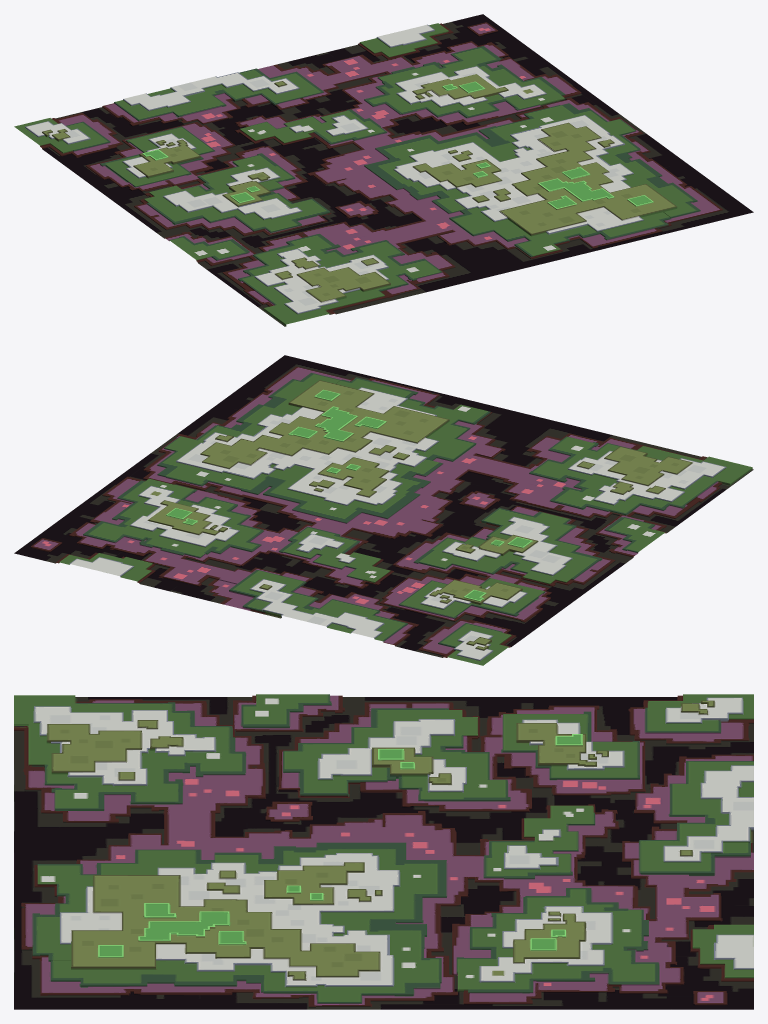
The model's file is  result.dae.
3 views of the same model, one above another, from view 1: azimuth 30°, elevation 25°; view 2: azimuth 150°, elevation 25°; view 3: azimuth 270°, elevation 25° (orthographic). The views are drawn at different scales.
Visible parts, largest first — view 1: PlaneTEX; view 2: PlaneTEX; view 3: PlaneTEX.
Boxes of the visible parts, bbox=[...] form: PlaneTEX: bbox=[14, 14, 753, 326]; PlaneTEX: bbox=[14, 355, 753, 665]; PlaneTEX: bbox=[14, 694, 753, 1009].
Bounding box in the file's own units: 1000 × 1000 × 10.2.
1 material, 1 textured.
